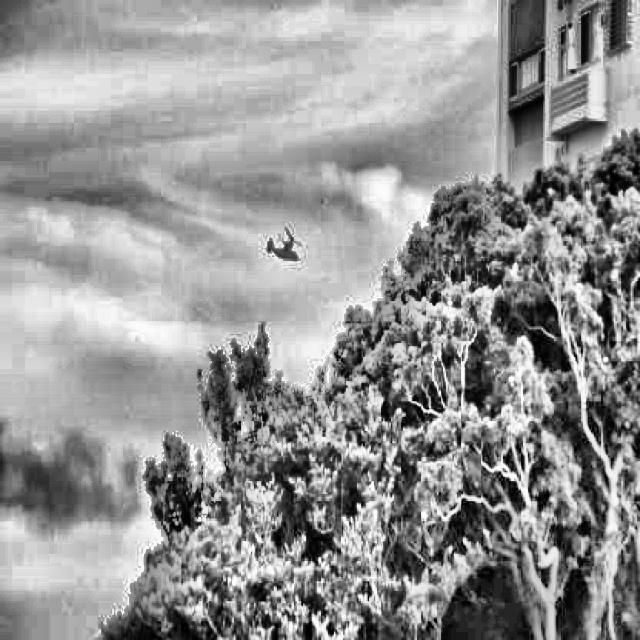V22: (267, 227, 301, 261)
